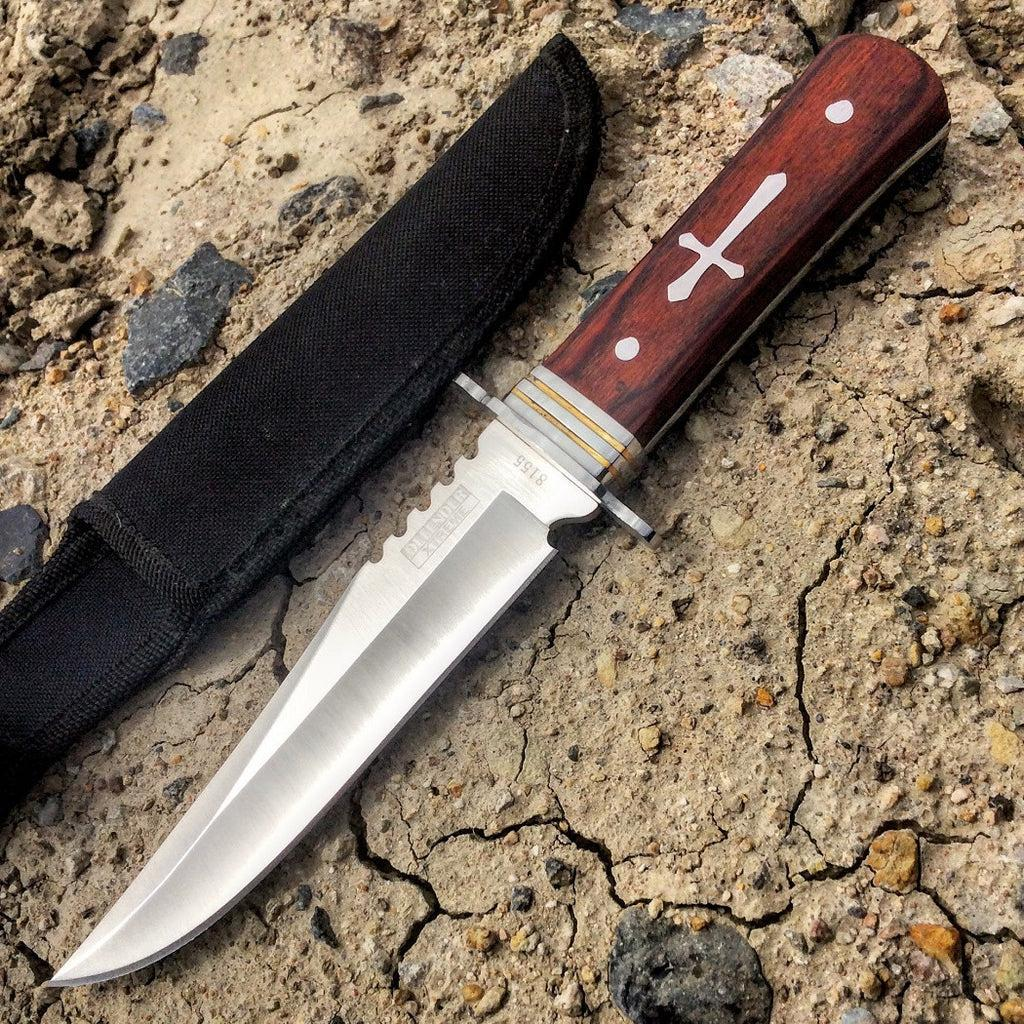faca: (50, 37, 949, 986)
